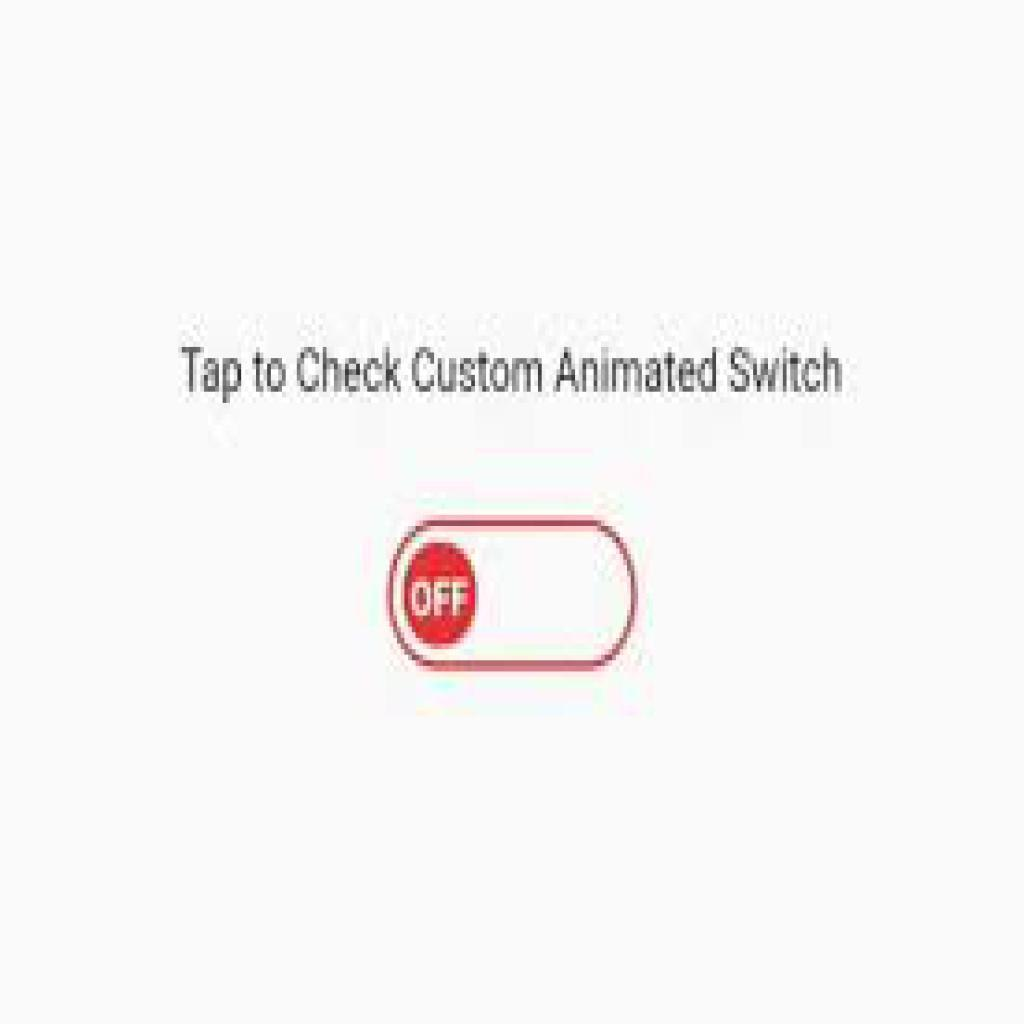switch: (377, 503, 646, 688)
